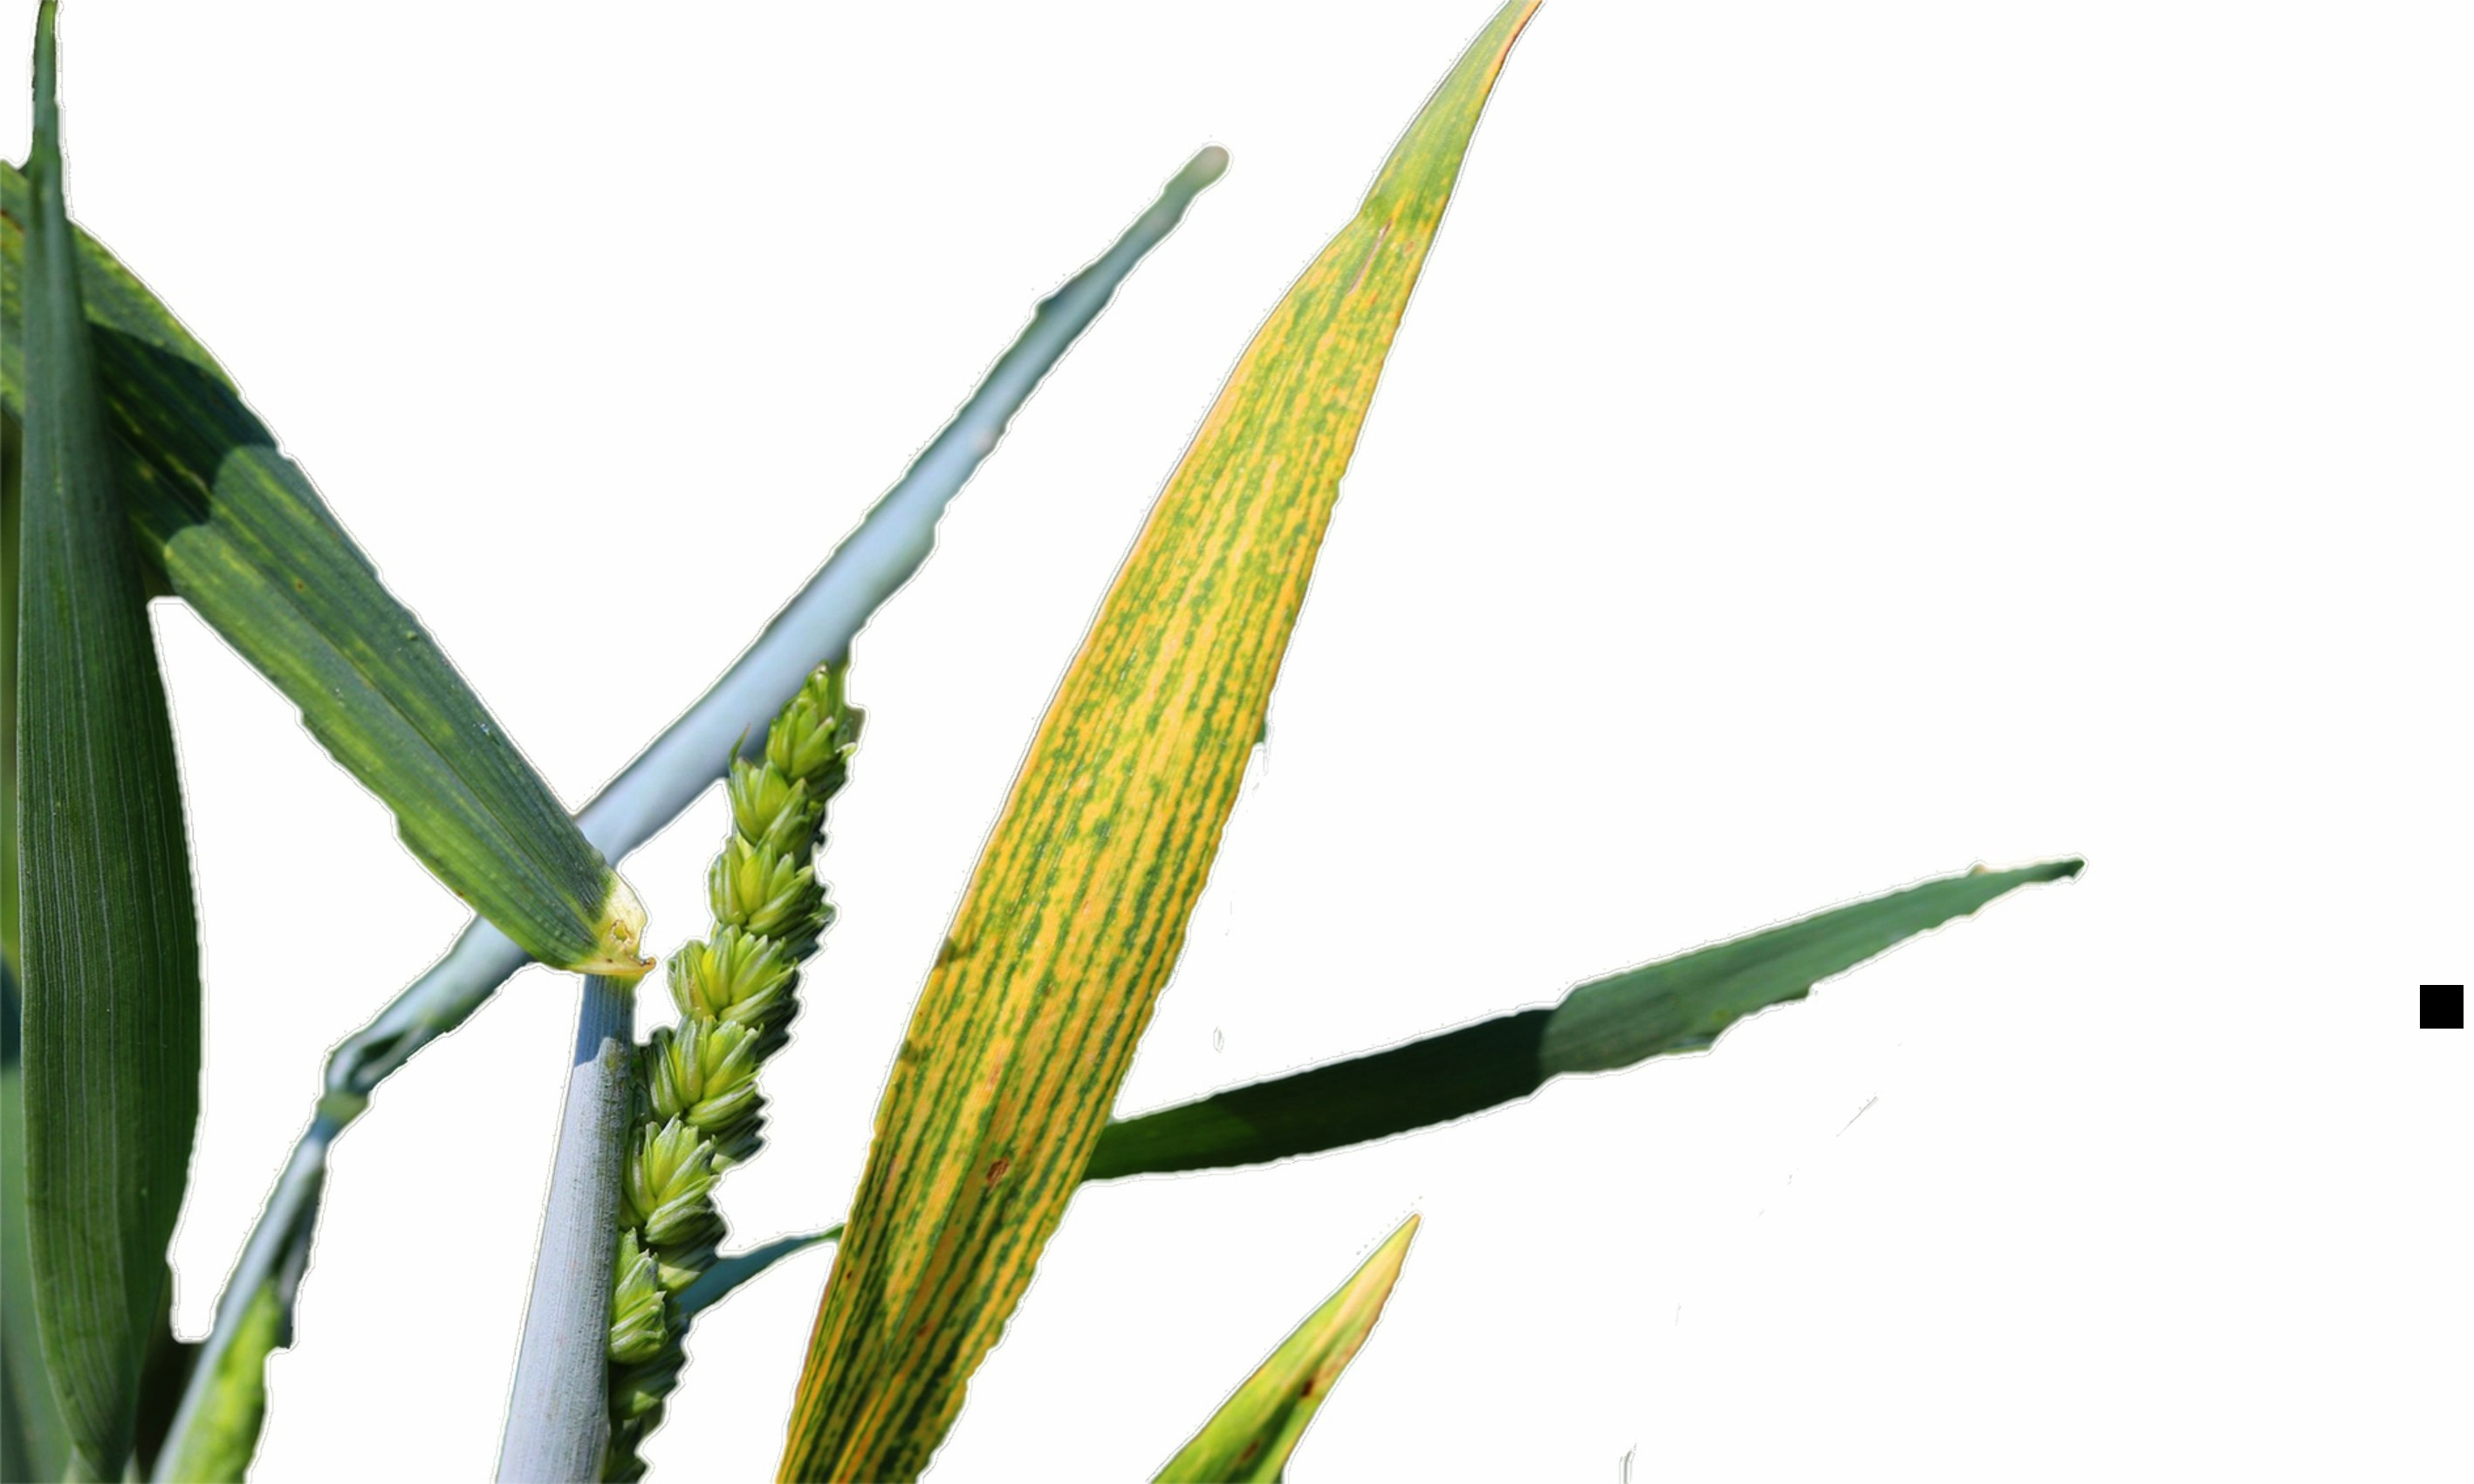wheat: (576, 613, 882, 1452)
